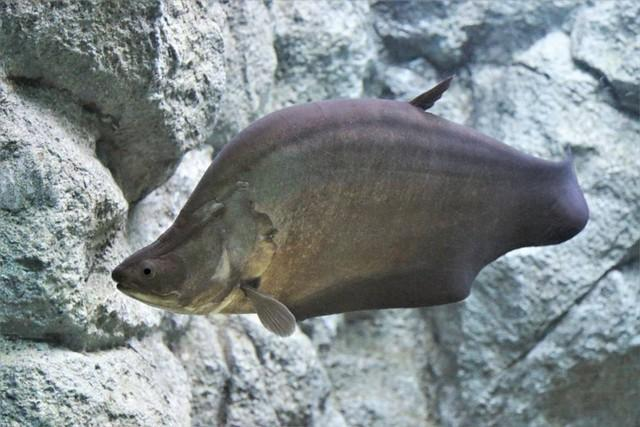Mulut: (96, 250, 162, 311)
Sirip Dada: (228, 270, 340, 356)
Sirip Punggung: (405, 73, 463, 124)
